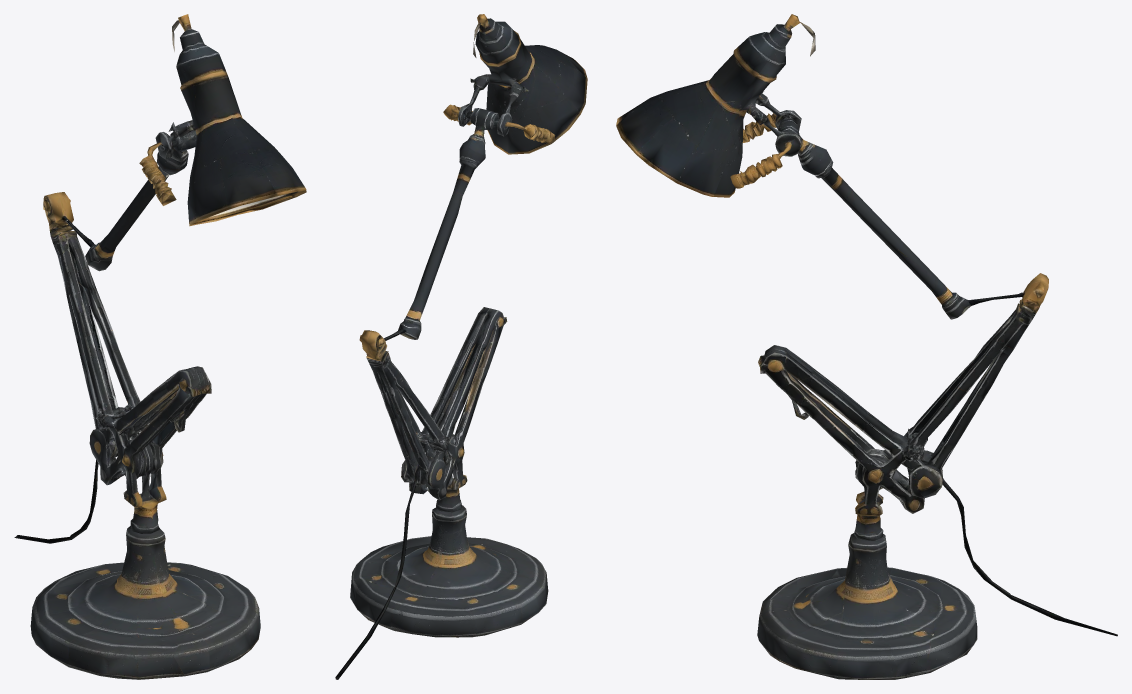
The picture shows the model from 3 angles, left to right: view 1: azimuth 30°, elevation 25°; view 2: azimuth 150°, elevation 25°; view 3: azimuth 270°, elevation 25°; orthographic projection. The views are drawn at different scales.
Size of the model in its own units: 0.6114 by 1.9 by 1.39.
1 material, 1 textured.
